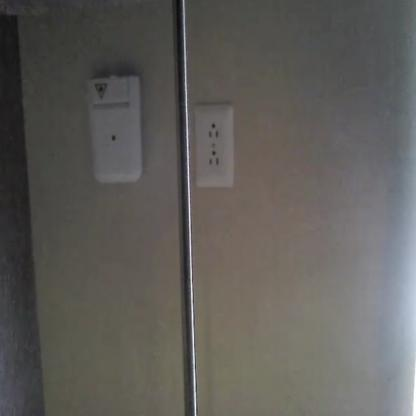OUTLET: (195, 106, 234, 188)
